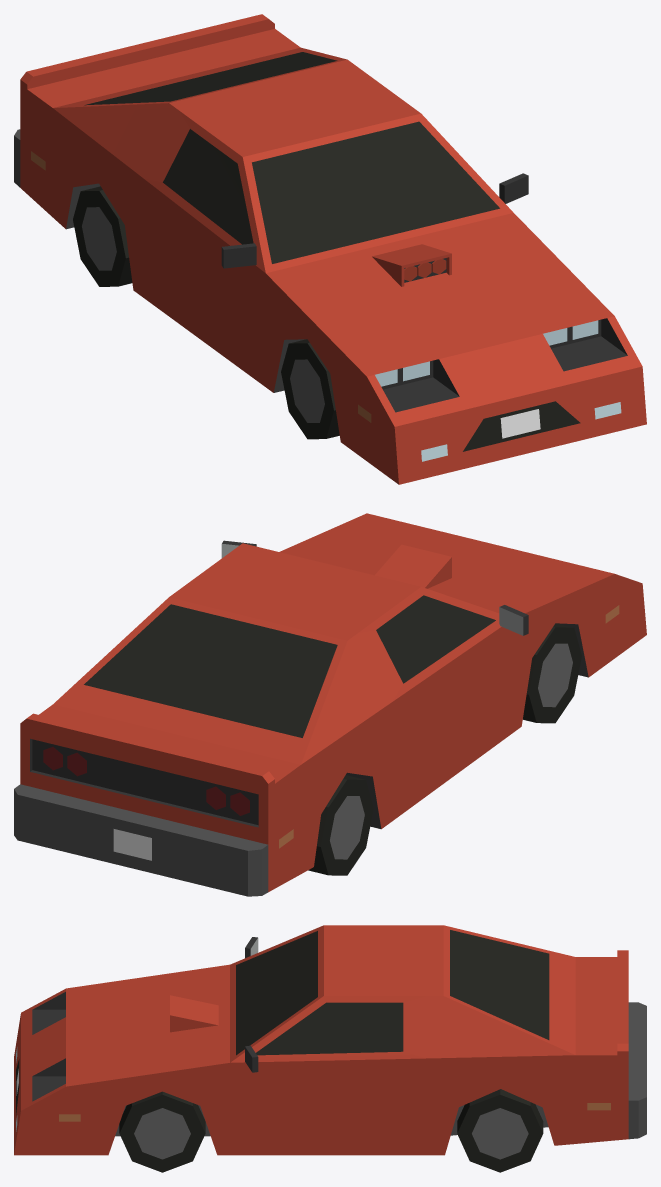
The model's file is Veh_Muscle_Car_03_Red.glb.
The picture shows the model from 3 angles, top to bottom: view 1: azimuth 30°, elevation 25°; view 2: azimuth 150°, elevation 25°; view 3: azimuth 270°, elevation 25°; orthographic projection. The views are drawn at different scales.
Visible parts, largest first — view 1: Muscle_Car_03_Red, Wheel_RR, Wheel_FR; view 2: Muscle_Car_03_Red, Wheel_RR, Wheel_FR; view 3: Muscle_Car_03_Red, Wheel_RL, Wheel_FL.
Part boxes in pixels (box(x1,y1,x2,y2)): Muscle_Car_03_Red: box(14, 14, 646, 484); Wheel_RR: box(73, 186, 132, 286); Wheel_FR: box(281, 339, 339, 439); Muscle_Car_03_Red: box(14, 513, 646, 896); Wheel_RR: box(308, 775, 373, 875); Wheel_FR: box(523, 623, 581, 723); Muscle_Car_03_Red: box(14, 925, 646, 1155); Wheel_RL: box(457, 1089, 543, 1172); Wheel_FL: box(119, 1091, 205, 1172).
Size of the model in its own units: 1.24 by 0.7814 by 2.75.
Materials: 1 (1 with a texture image).
